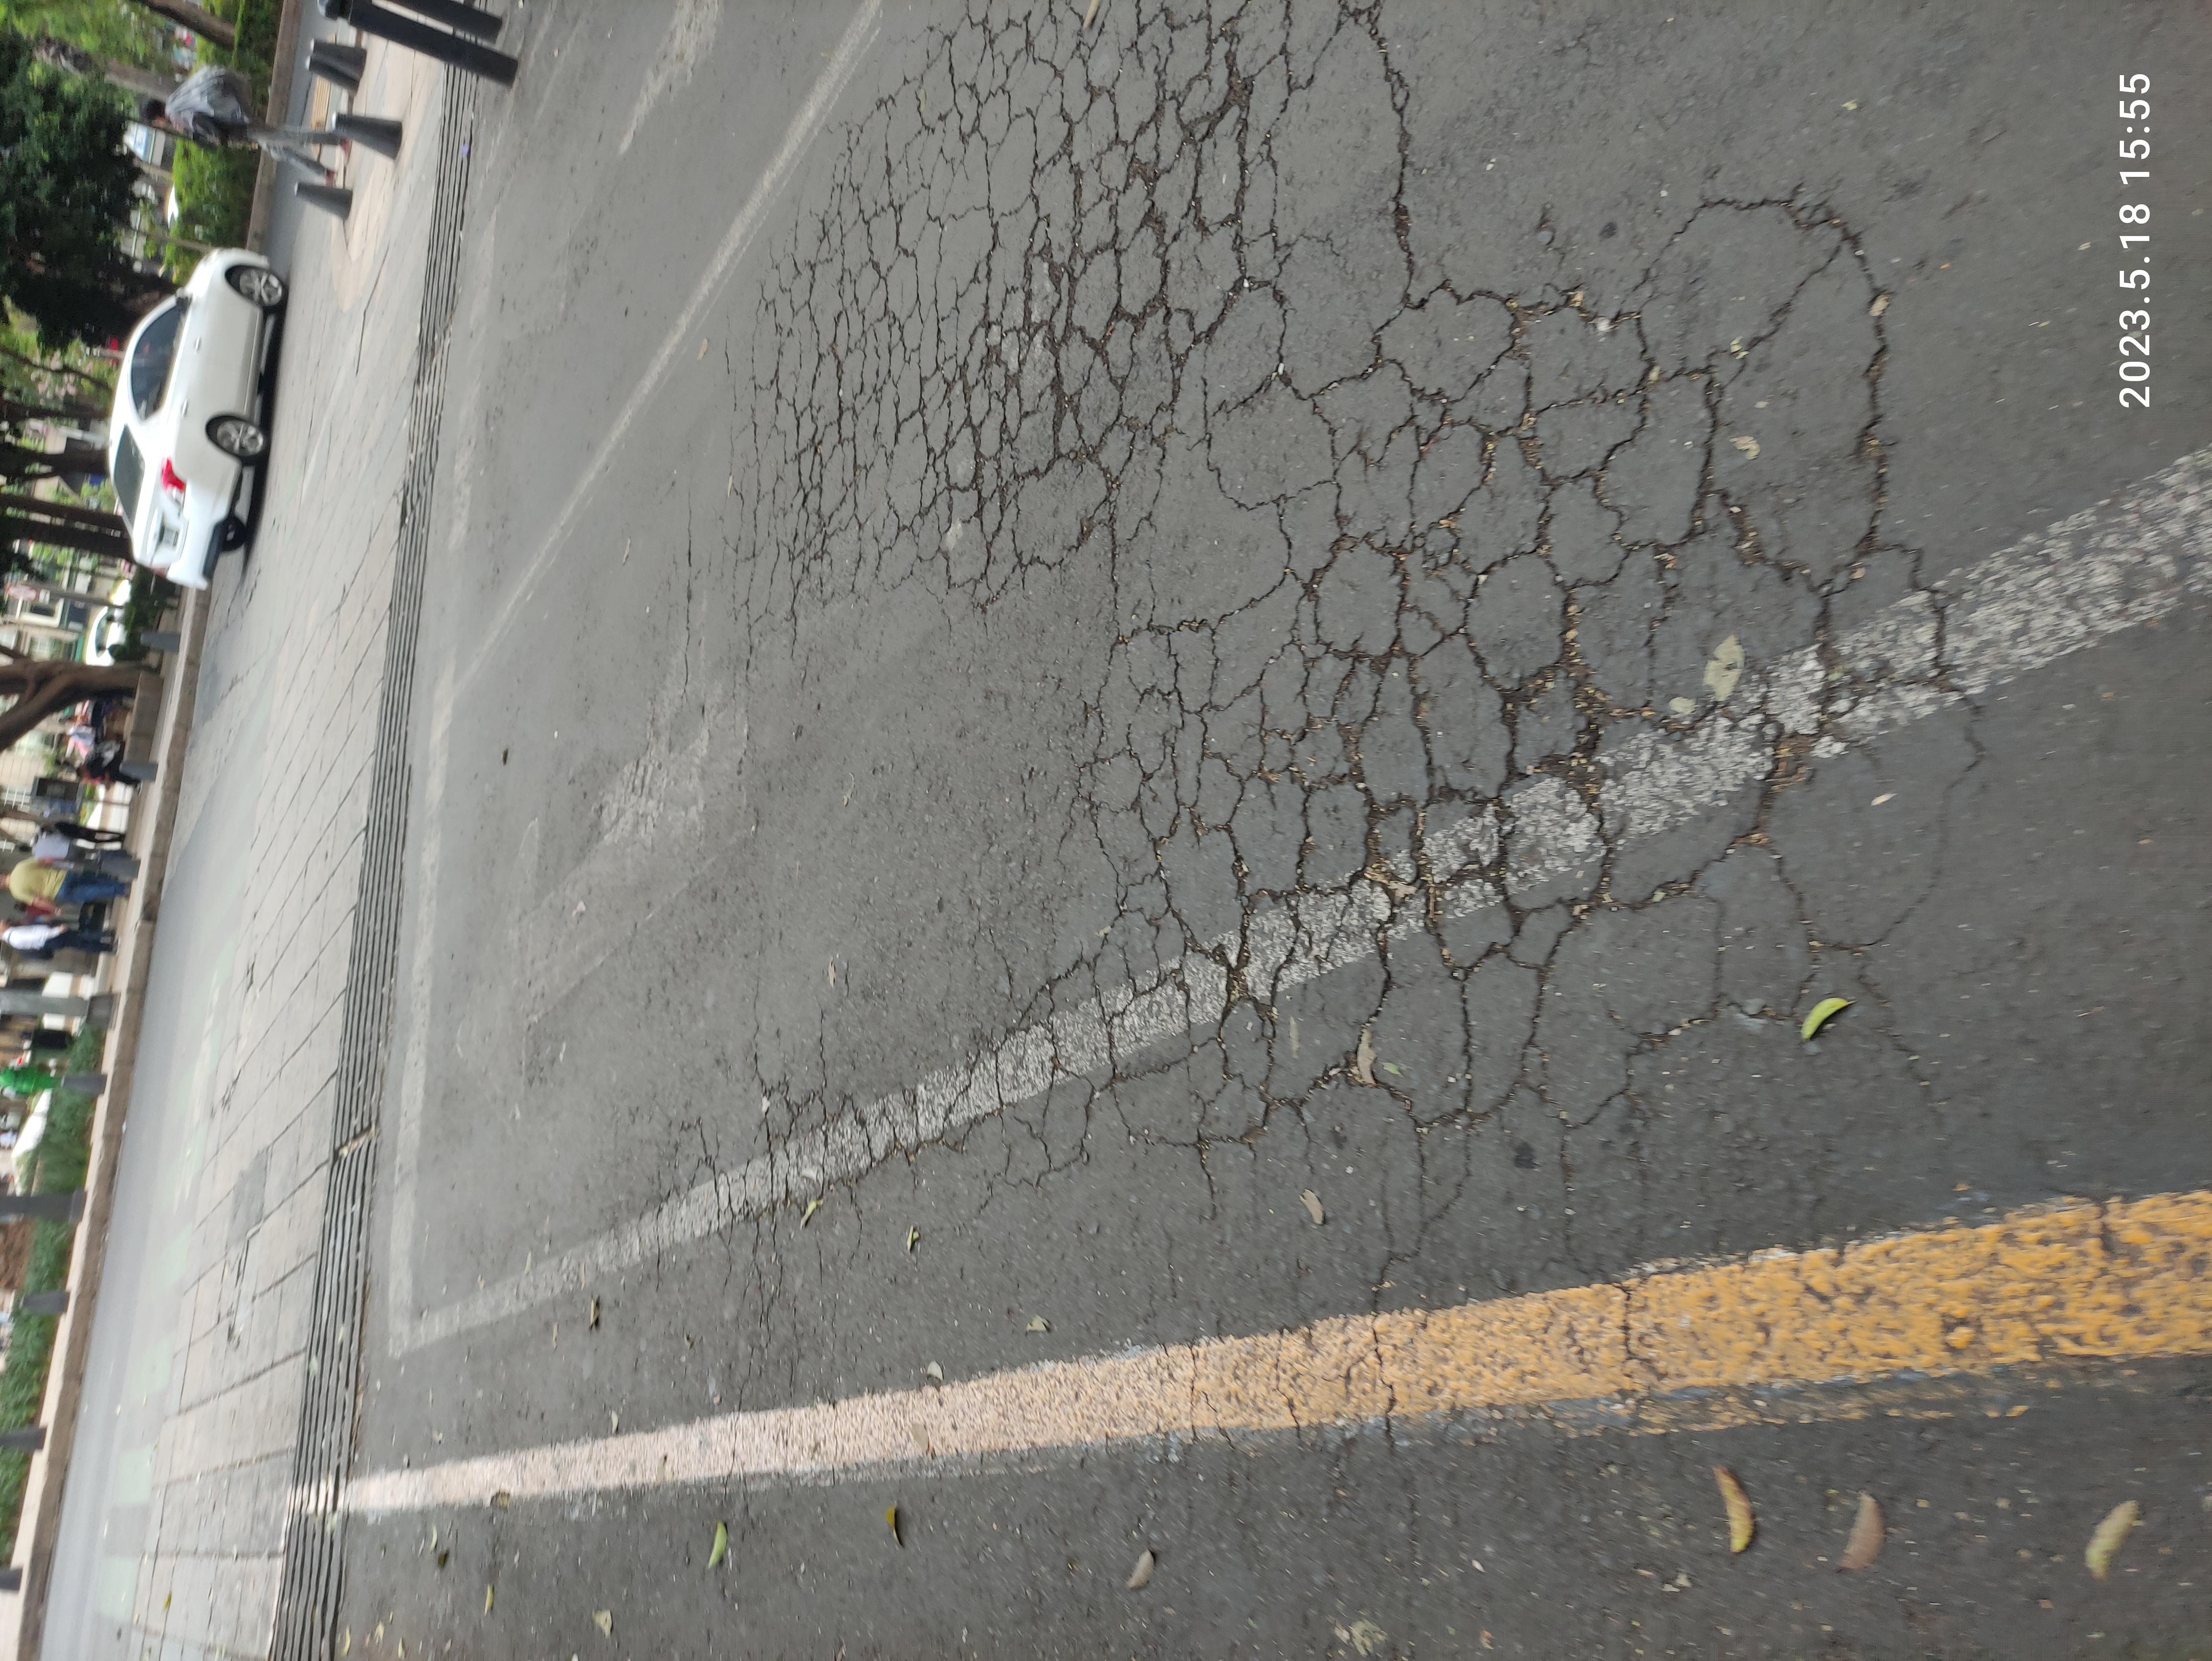alligator-crack: (591, 789, 2195, 1478), (1251, 539, 2200, 780), (434, 473, 1019, 776)
